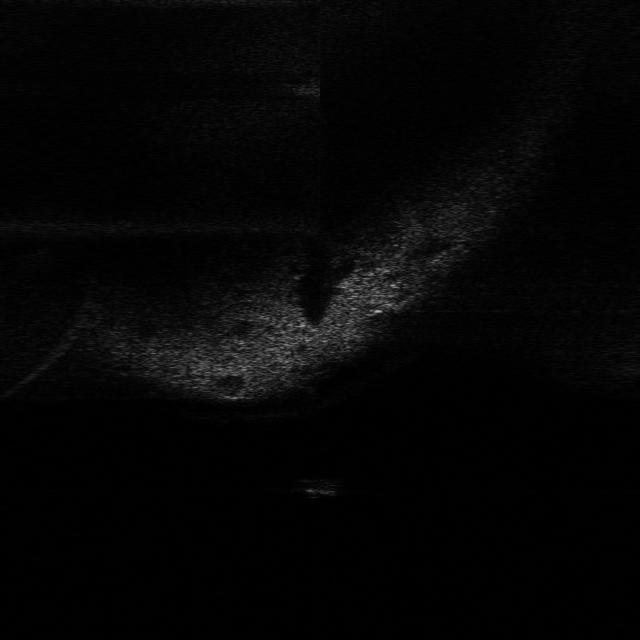cube: (292, 474, 346, 499)
